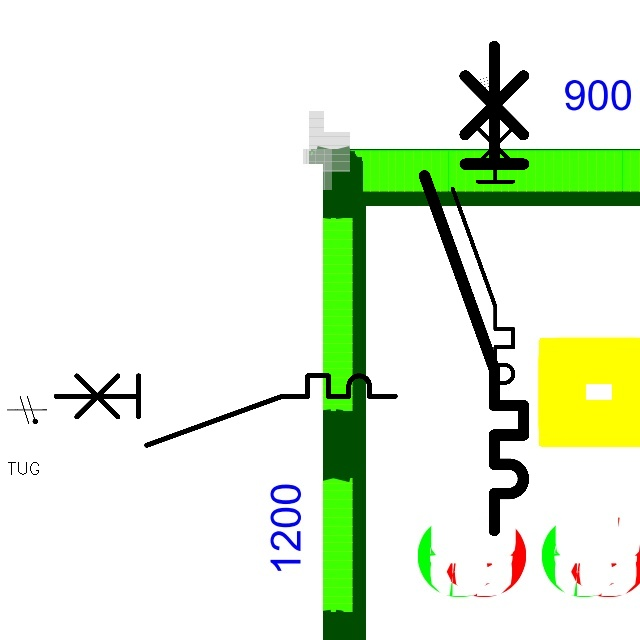interruptor_termomagnetico: (412, 34, 536, 543), (47, 367, 403, 454), (445, 102, 521, 413)
